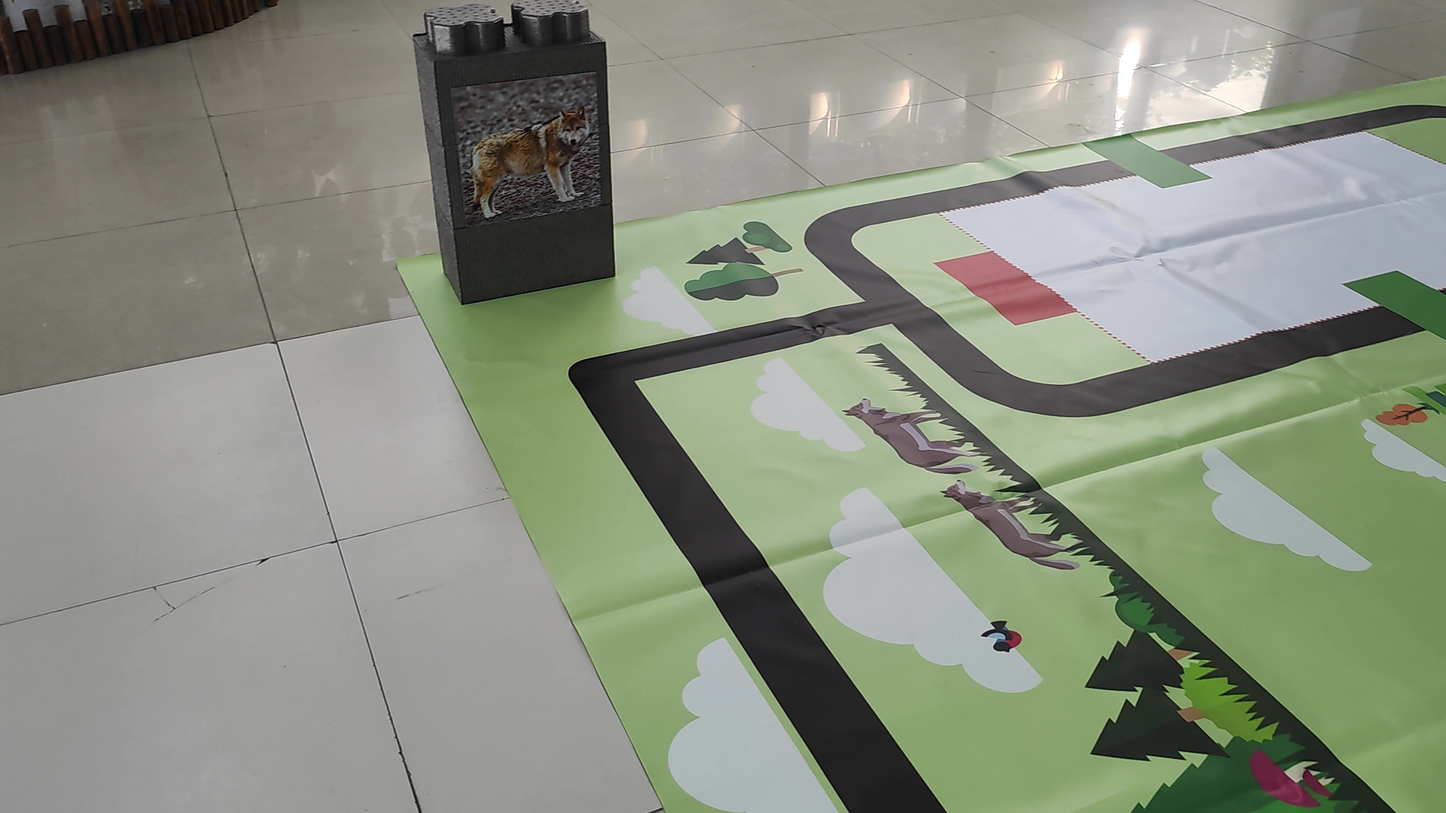wolf: (463, 100, 610, 217)
